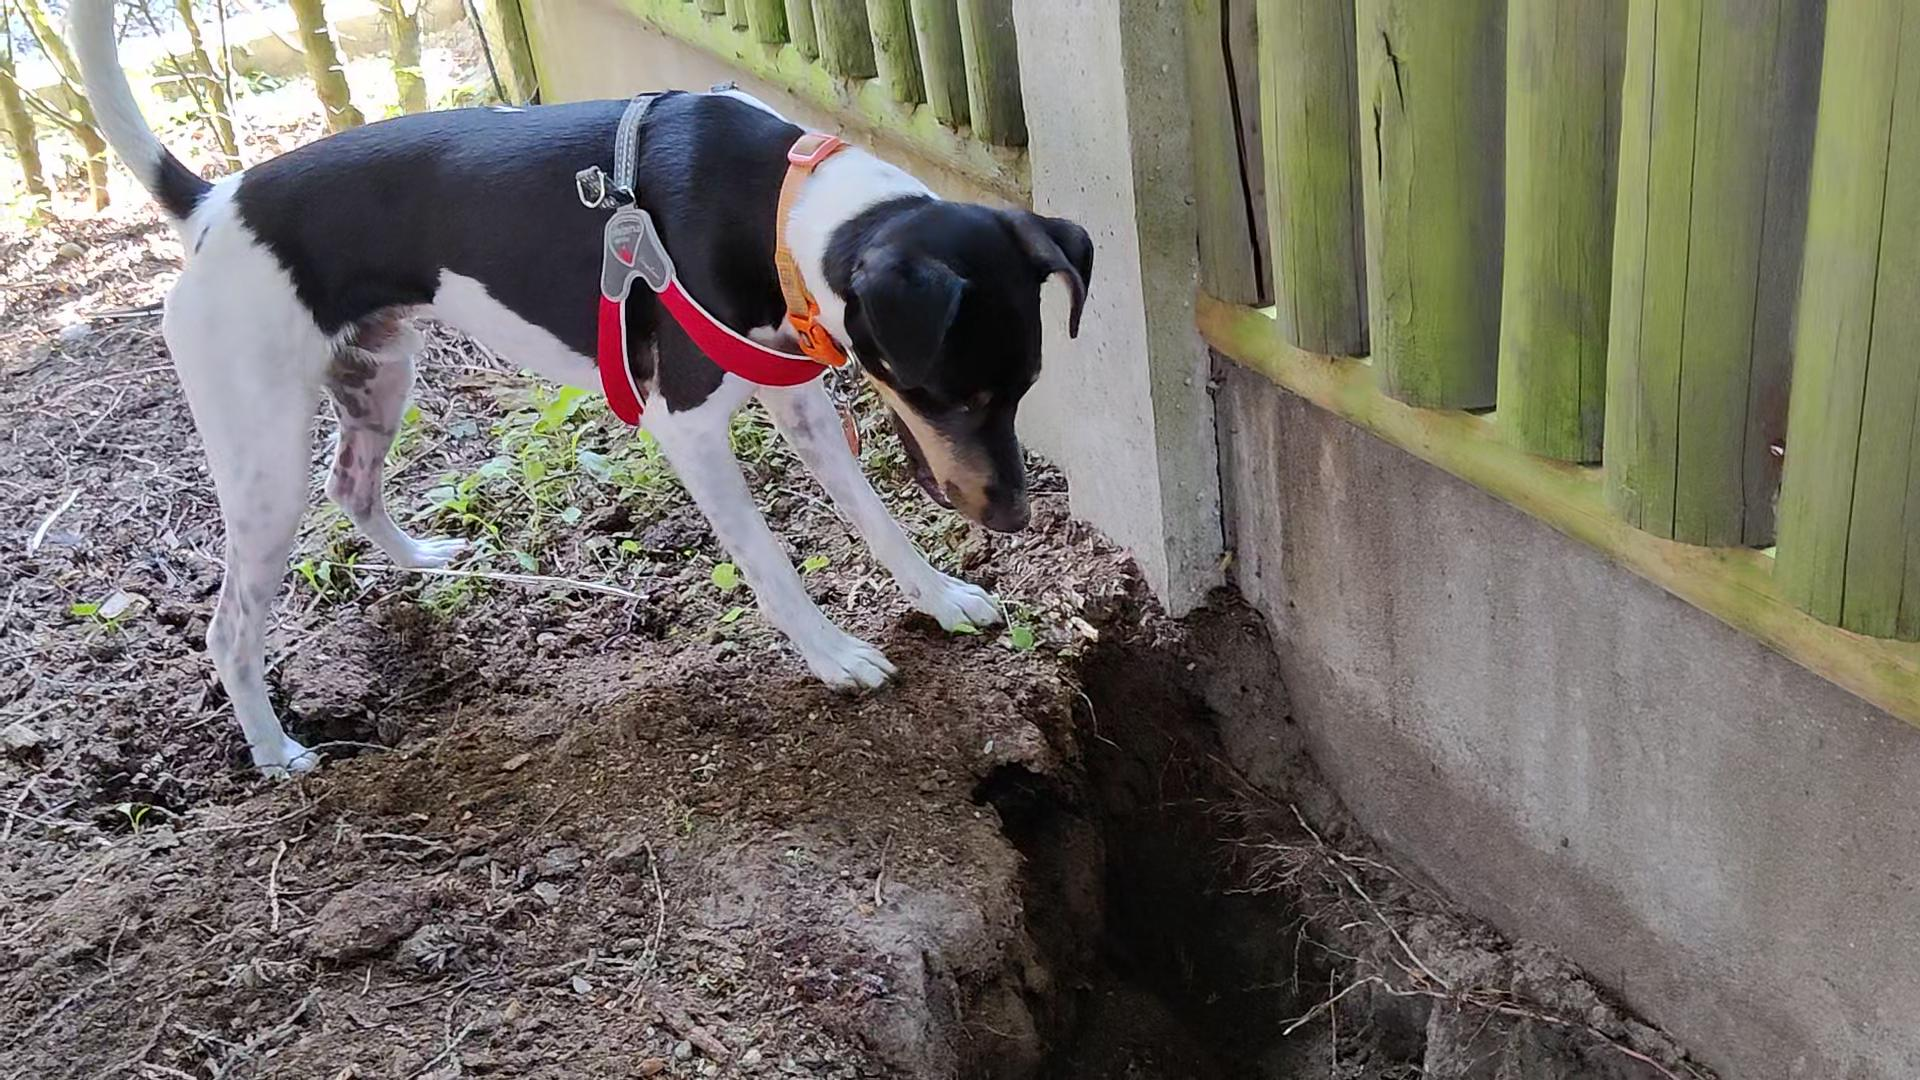Dog: (49, 0, 1113, 791)
